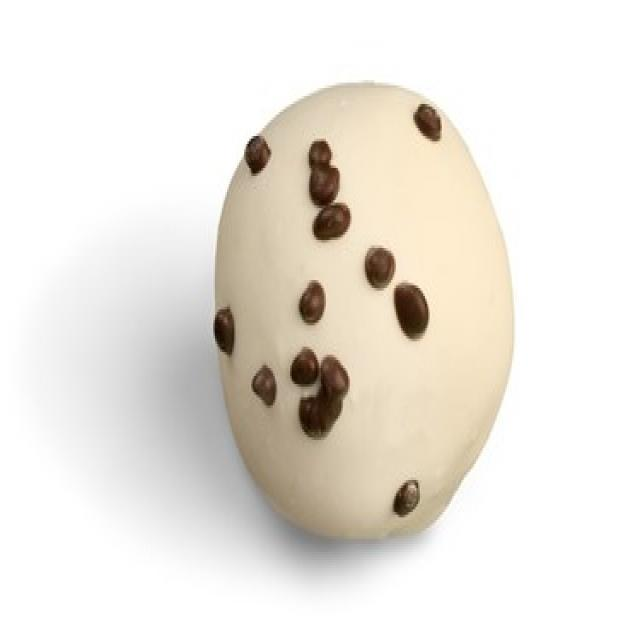chocolate: (213, 72, 516, 552)
